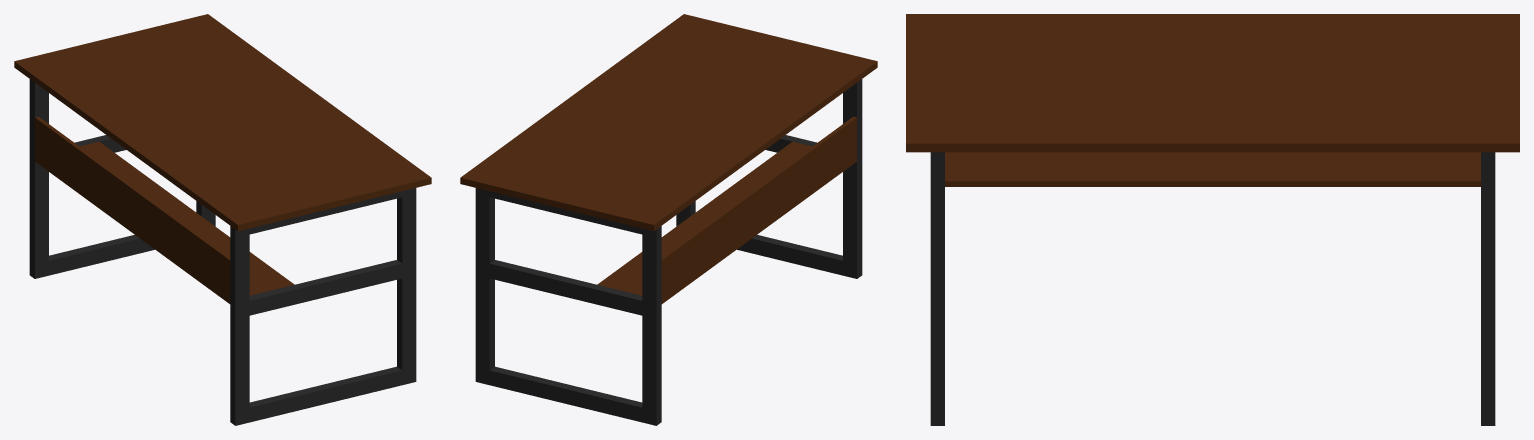
File: desk-by-sambws621-XW9ScOXE8d.glb
3 renders of one model, left to right at view 1: azimuth 30°, elevation 25°; view 2: azimuth 150°, elevation 25°; view 3: azimuth 270°, elevation 25°, orthographic. The views are drawn at different scales.
Visible parts, largest first — view 1: 150X75X2.3, Tatakan.002, Tatakan.001, Kaki.009, Kaki.010, Kaki.002, Kaki.008, Kaki.007, Kaki.003, Kaki.006; view 2: 150X75X2.3, Tatakan.002, Tatakan.001, Kaki.002, Kaki.001, Kaki.009, Kaki.003, Kaki.004, Kaki.008, Kaki.005; view 3: 150X75X2.3, Tatakan.001, Kaki.001, Kaki.010.
Boxes of the visible parts, <box> form: 150X75X2.3: <box>14,14,431,231</box>; Tatakan.002: <box>35,116,230,299</box>; Tatakan.001: <box>35,141,294,303</box>; Kaki.009: <box>230,226,249,425</box>; Kaki.010: <box>397,188,416,385</box>; Kaki.002: <box>29,79,48,278</box>; Kaki.008: <box>249,366,402,422</box>; Kaki.007: <box>249,260,402,315</box>; Kaki.003: <box>49,235,154,275</box>; Kaki.006: <box>249,191,402,234</box>; 150X75X2.3: <box>460,14,877,231</box>; Tatakan.002: <box>661,116,856,300</box>; Tatakan.001: <box>597,141,856,303</box>; Kaki.002: <box>642,226,661,425</box>; Kaki.001: <box>475,188,494,385</box>; Kaki.009: <box>843,79,862,278</box>; Kaki.003: <box>489,366,642,422</box>; Kaki.004: <box>489,260,642,315</box>; Kaki.008: <box>737,235,842,275</box>; Kaki.005: <box>489,191,642,234</box>; 150X75X2.3: <box>906,14,1519,152</box>; Tatakan.001: <box>945,152,1480,186</box>; Kaki.001: <box>1481,152,1495,425</box>; Kaki.010: <box>930,152,944,425</box>.
Size of the model in its own units: 0.75 by 0.773 by 1.5.
